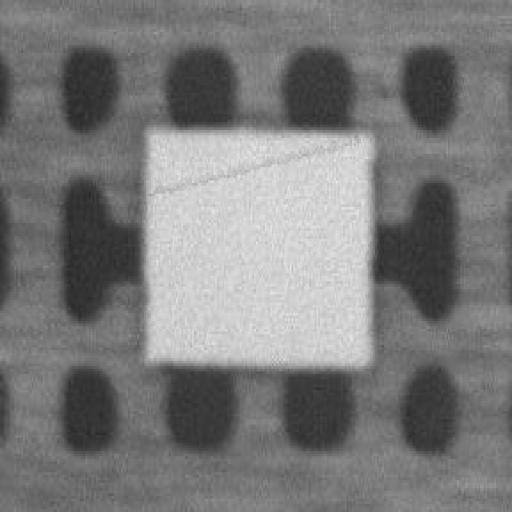DIE_CRACK: (220, 93, 512, 127)
